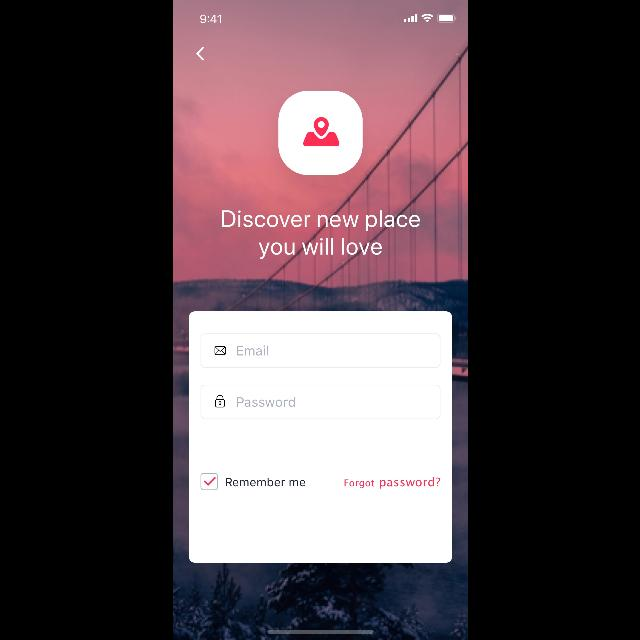backgroundimage: (172, 1, 468, 640)
checkbox: (200, 472, 217, 490)
icon: (214, 395, 223, 407), (195, 47, 202, 61), (213, 347, 224, 355)
image: (278, 91, 362, 175)
input: (200, 385, 440, 419), (200, 334, 440, 368)
text: (221, 210, 419, 260), (344, 477, 440, 489), (225, 478, 305, 487), (236, 397, 294, 407), (236, 346, 268, 356)
uppertaskbar: (199, 14, 456, 24)
